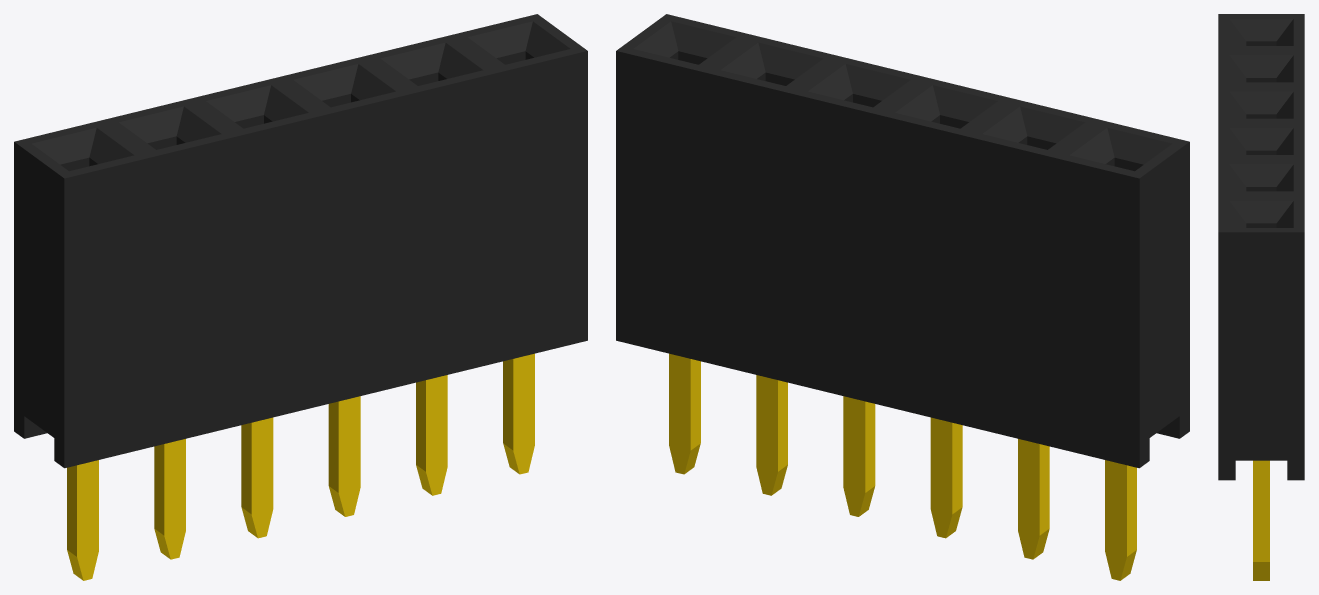
The model's file is PBS2-6.glb.
The picture shows the model from 3 angles, left to right: view 1: azimuth 30°, elevation 25°; view 2: azimuth 150°, elevation 25°; view 3: azimuth 270°, elevation 25°; orthographic projection. The views are drawn at different scales.
Parts seen in each view (by area): view 1: PBS2 (DS1026-20 CONNFLY); view 2: PBS2 (DS1026-20 CONNFLY); view 3: PBS2 (DS1026-20 CONNFLY).
Boxes of the visible parts, <box> form: PBS2 (DS1026-20 CONNFLY): <box>14,14,587,580</box>; PBS2 (DS1026-20 CONNFLY): <box>616,14,1189,580</box>; PBS2 (DS1026-20 CONNFLY): <box>1218,14,1304,580</box>.
Size of the model in its own units: 0.012 by 0.00935 by 0.002.
